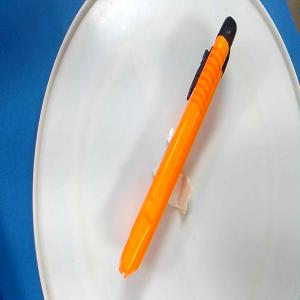estilete: (118, 15, 238, 280)
